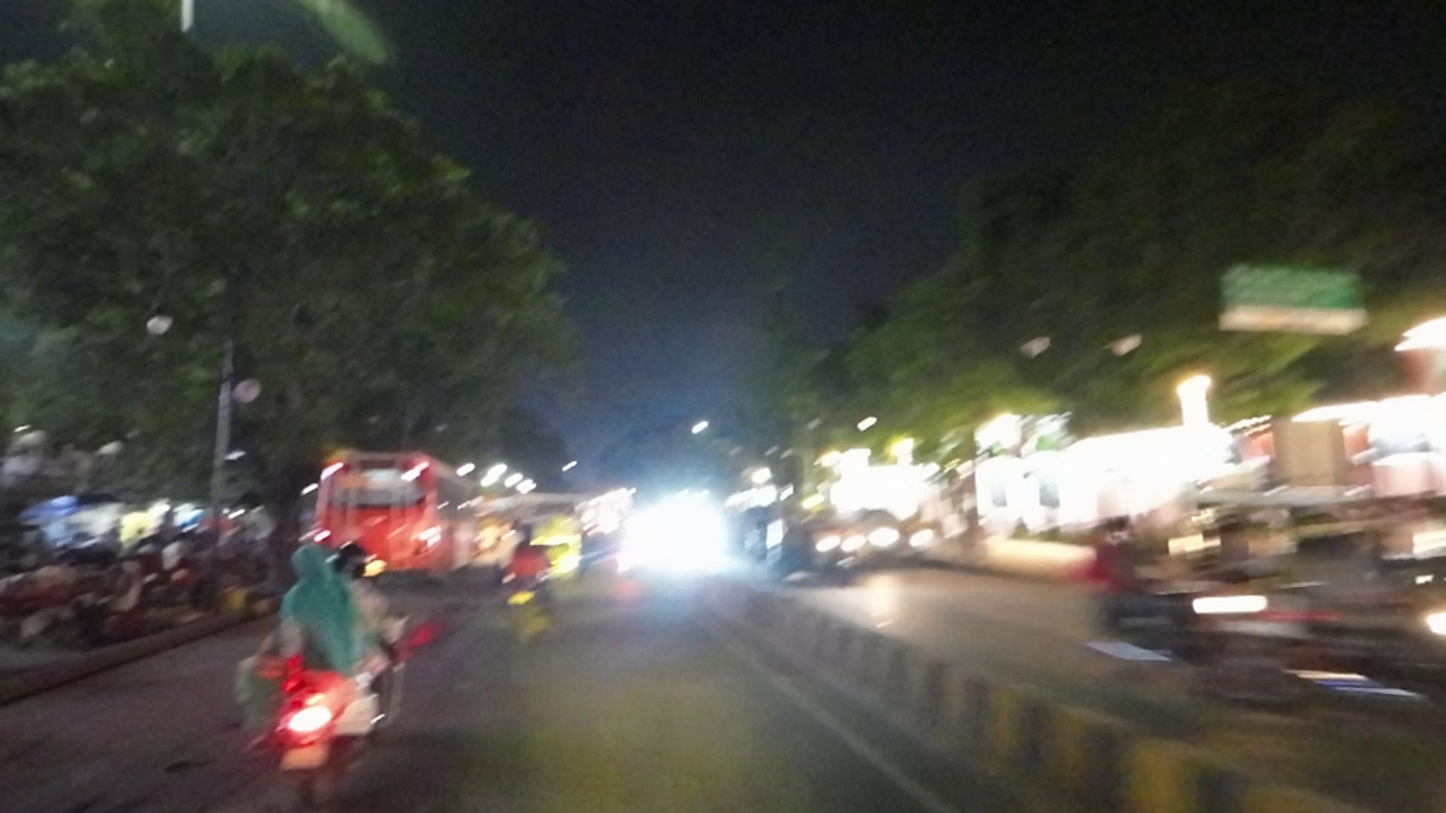streetlight: (1094, 322, 1162, 375), (139, 285, 188, 358), (1002, 315, 1064, 370), (232, 339, 272, 416)
